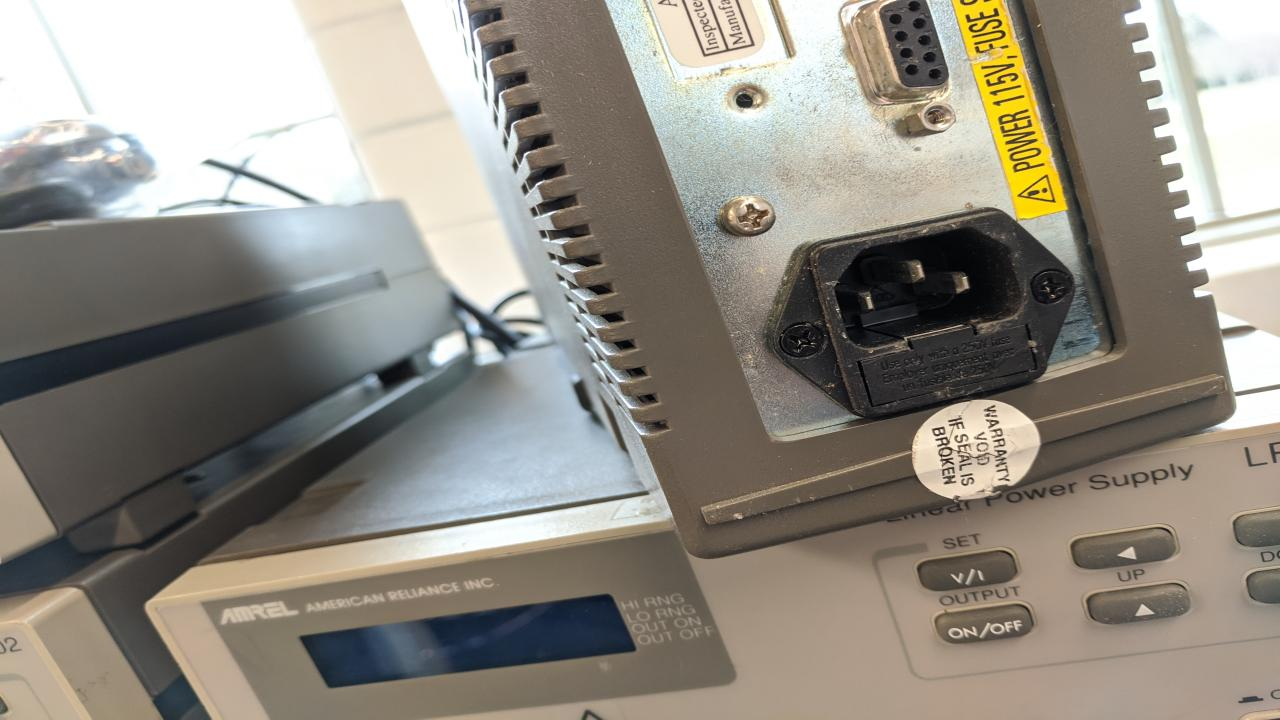CRS: (723, 195, 778, 237), (780, 323, 826, 358), (1030, 268, 1072, 306)
